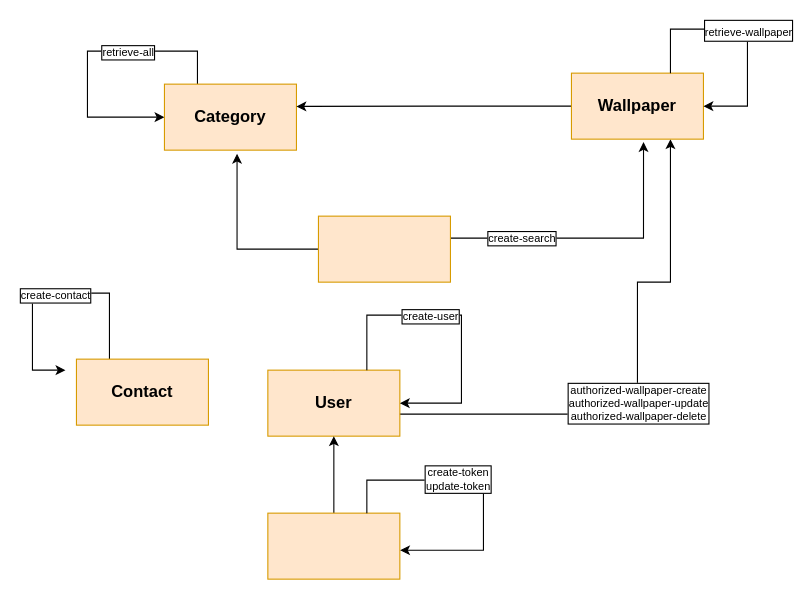
Some shapes in this 811 by 598 pixel diagram are drawn without their labels. Each missing label, with the centre of its shape:
"Search" belongs at (383,248).
"Token" belongs at (333,545).
